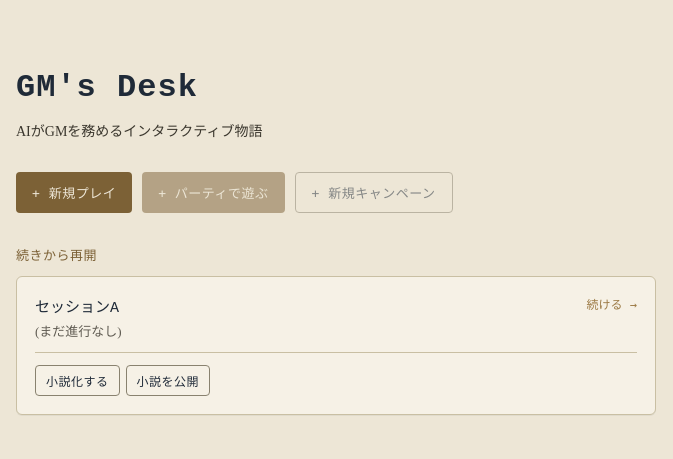
Test: Home › shows an error message when novelization fails
The image size is (673, 459).
Click the button "小説化する": (77, 381) [35,365,120,396]
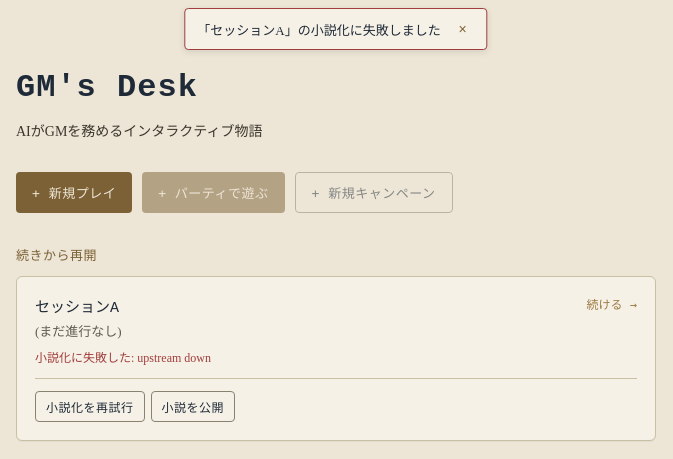
Expected: the text "小説化に失敗した: upstream down" is shown, [35,351,211,365]
